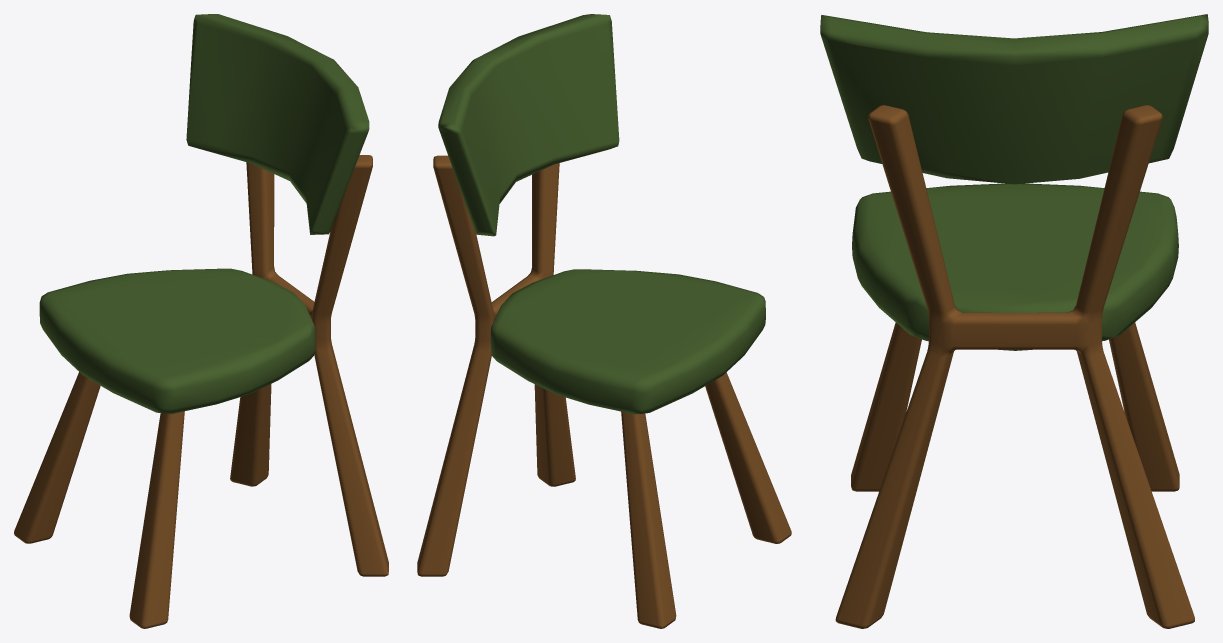
The model's file is chair_03_green.fbx.
3 renders of one model, left to right at view 1: azimuth 30°, elevation 25°; view 2: azimuth 150°, elevation 25°; view 3: azimuth 270°, elevation 25°, orthographic. The views are drawn at different scales.
Visible parts, largest first — view 1: chair_03_green; view 2: chair_03_green; view 3: chair_03_green.
Part boxes in pixels (x1=…): chair_03_green: x1=14, y1=14, x2=388, y2=628; chair_03_green: x1=417, y1=14, x2=791, y2=628; chair_03_green: x1=820, y1=14, x2=1208, y2=628.
Bounding box in the file's own units: 58.11 × 101 × 60.72.
Materials: 1 (1 with a texture image).
